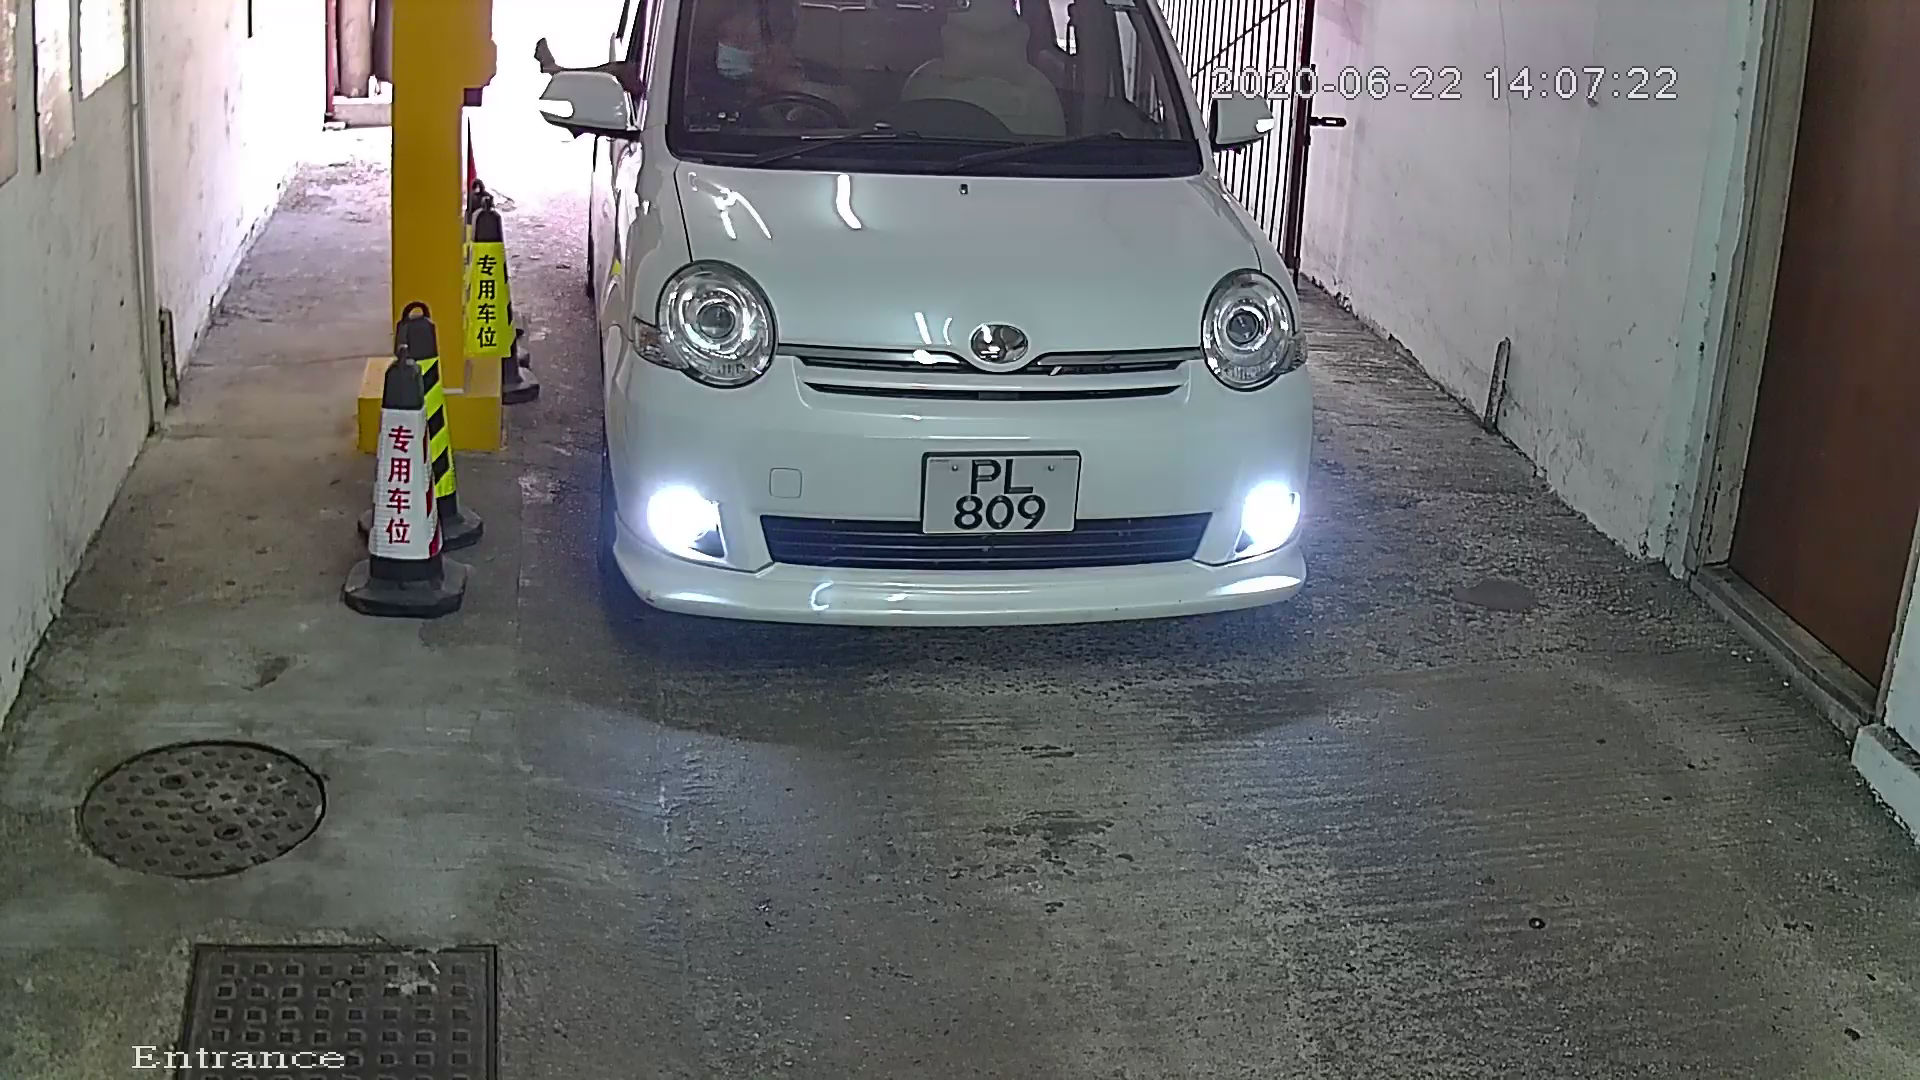privatecar: (520, 1, 1335, 663)
